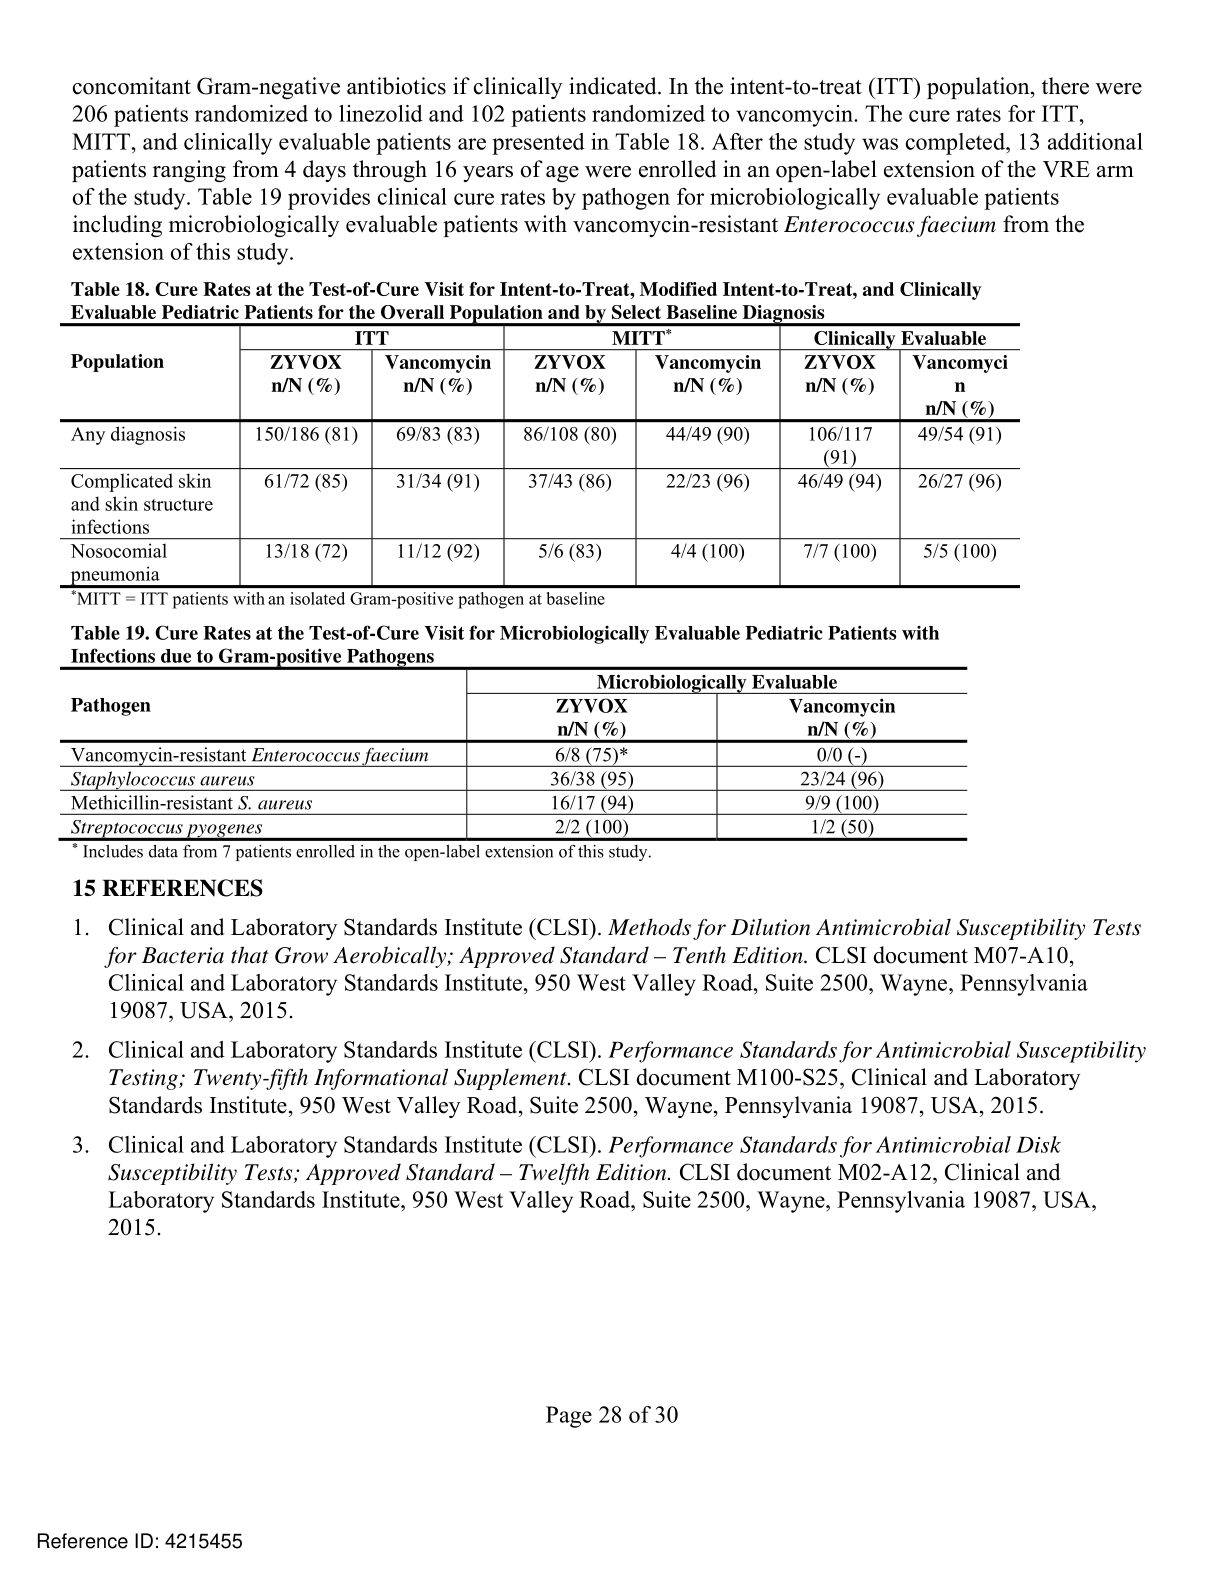partial_lined_merged_cells: (58, 321, 1023, 590), (58, 663, 972, 843)
